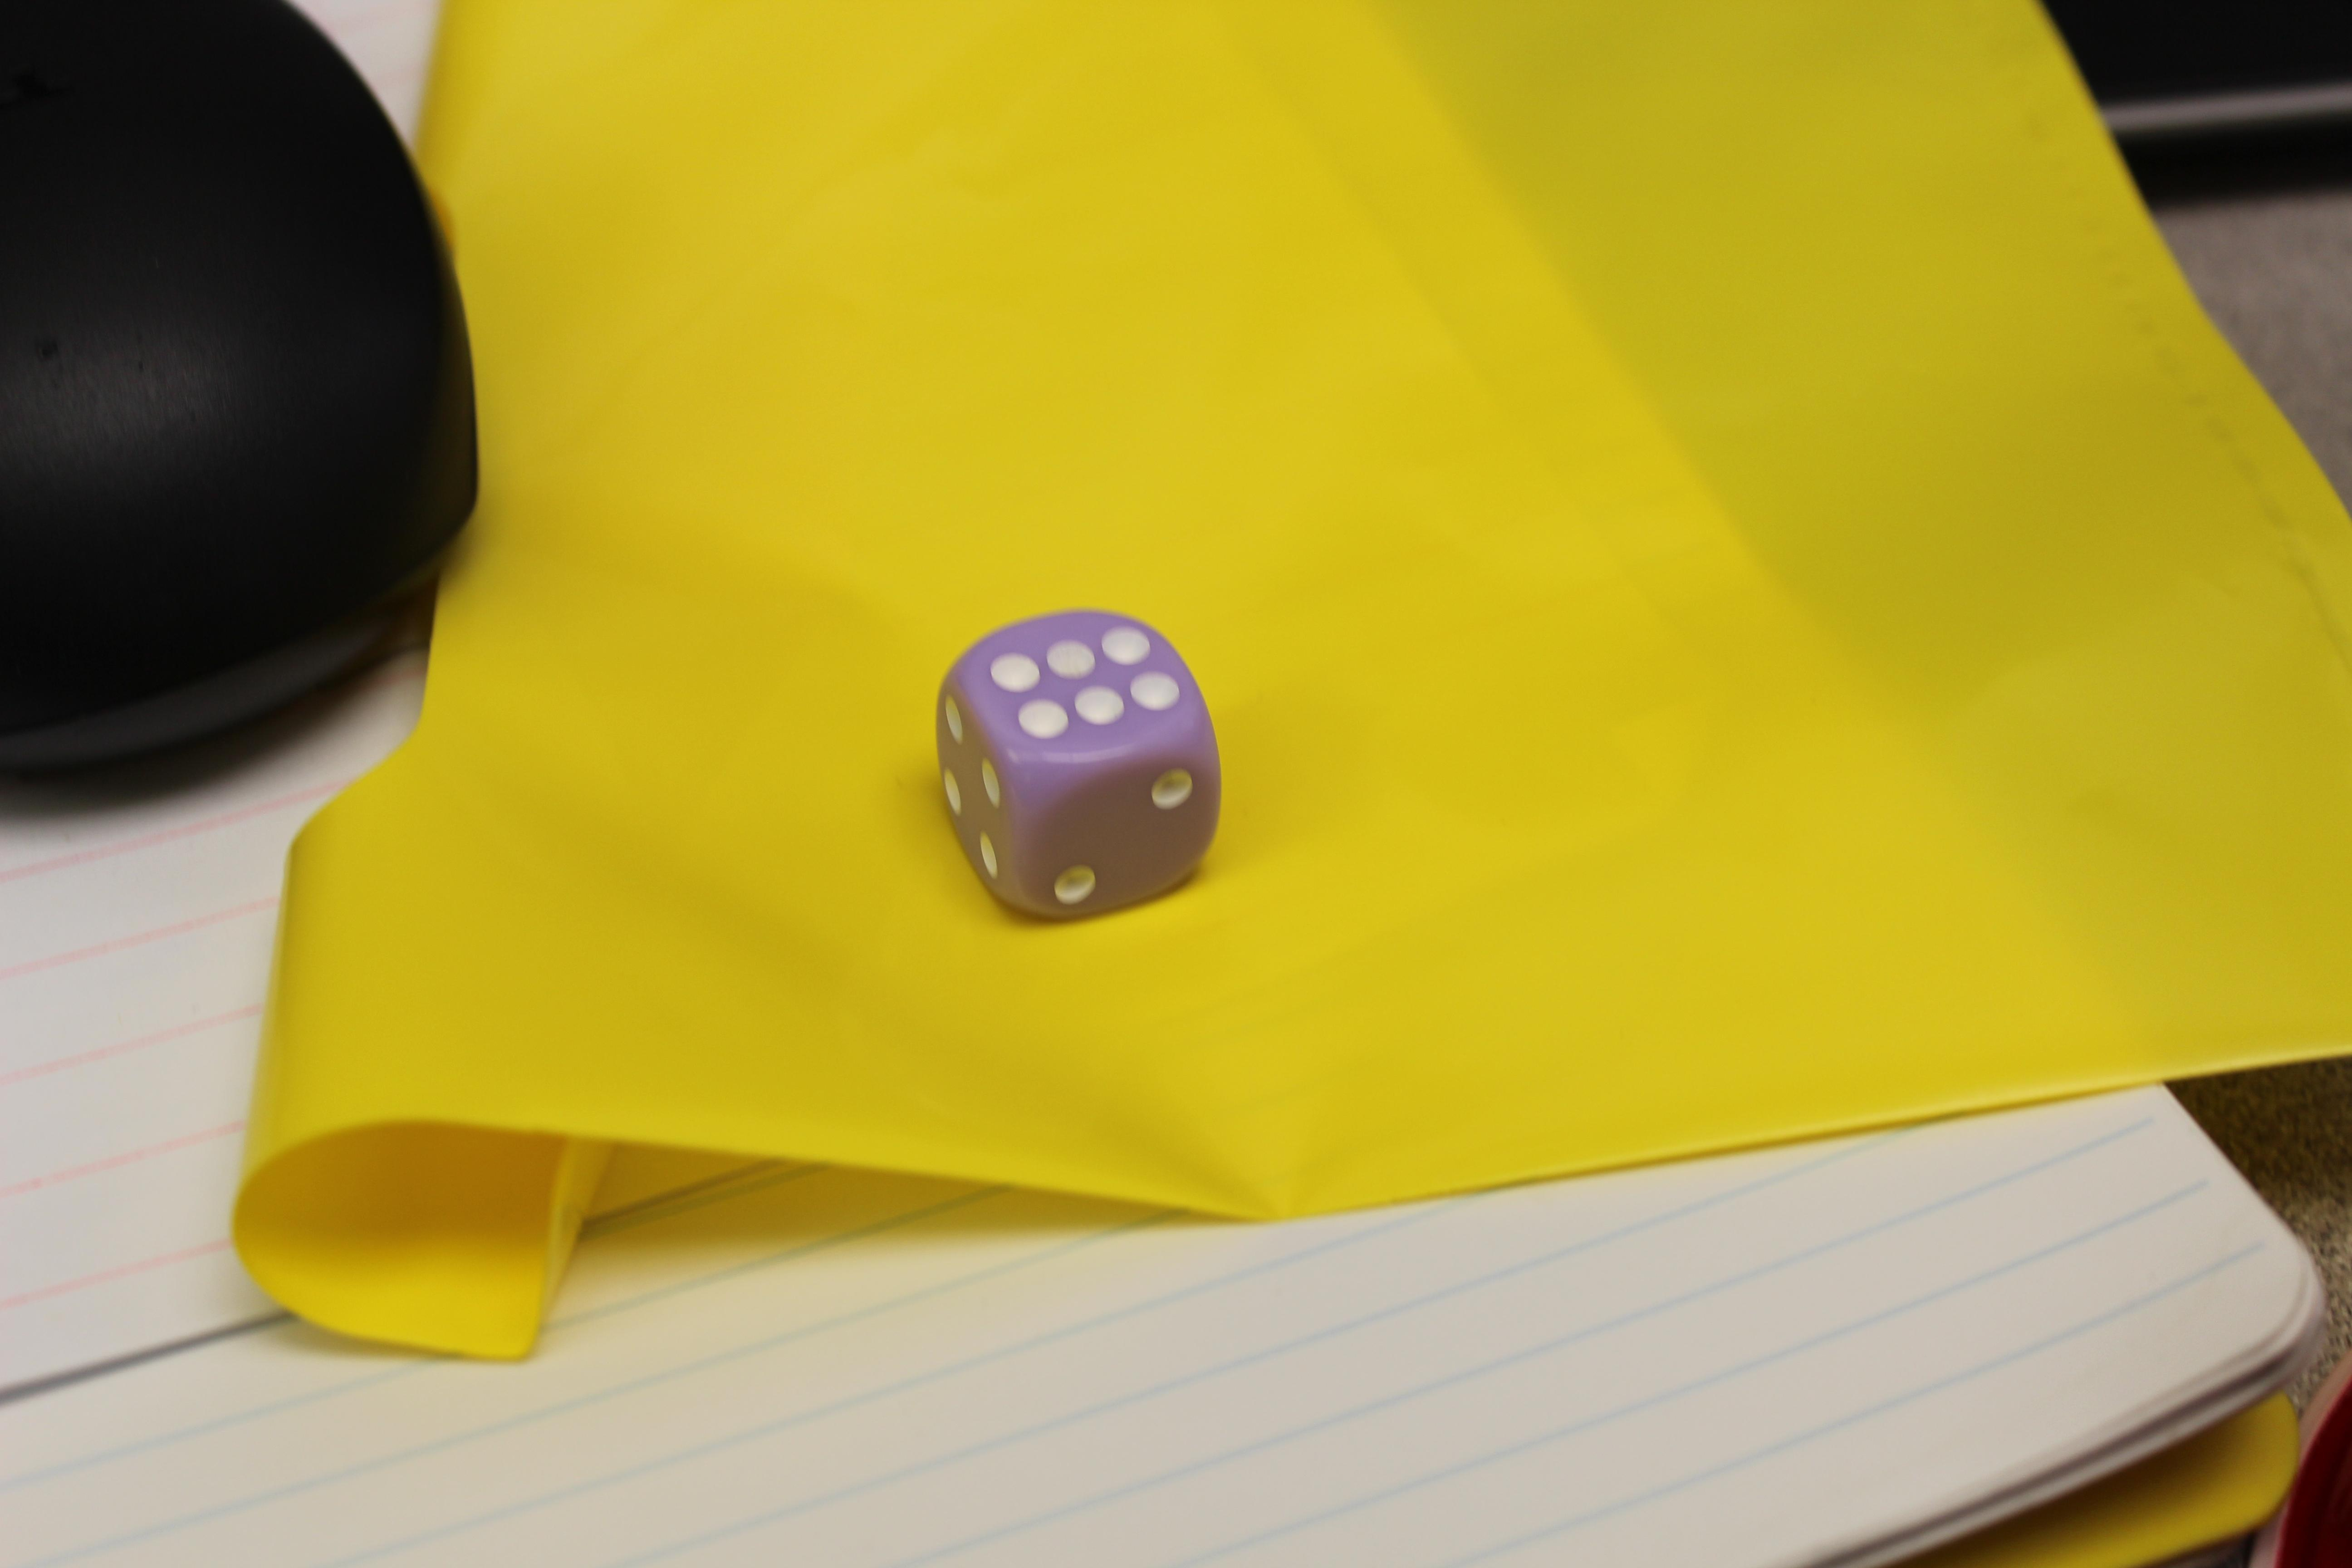lavenderDie: (894, 590, 1286, 961)
